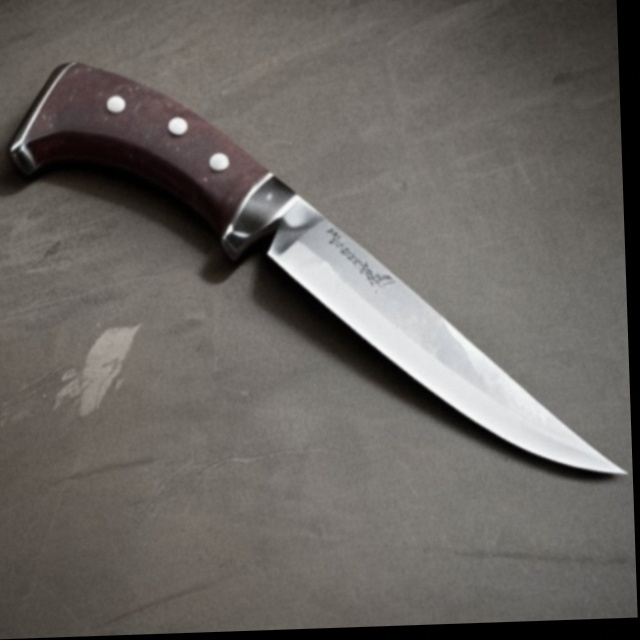Sharp-Object: (3, 35, 634, 522)
